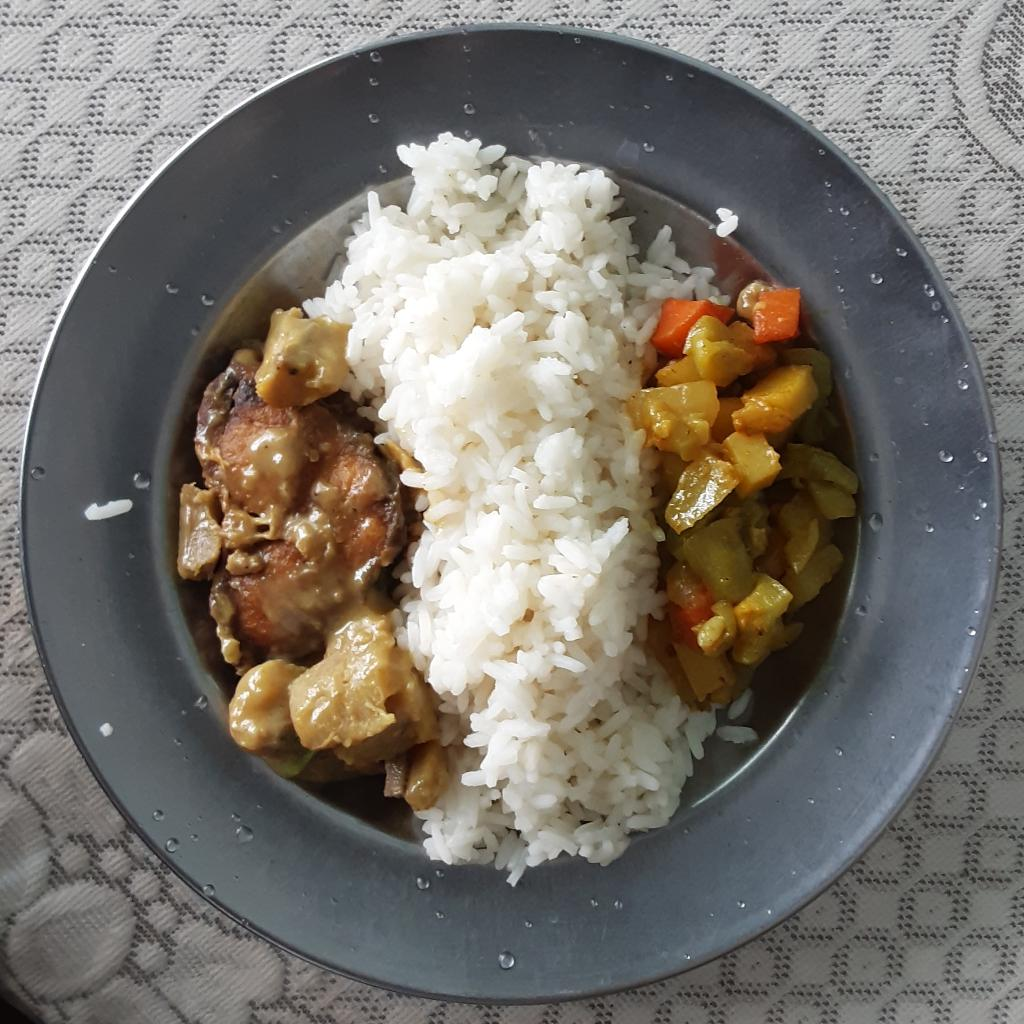fish: (195, 362, 429, 671)
khichuri: (627, 277, 859, 711)
kochu: (220, 613, 452, 804), (253, 307, 371, 404)
rice: (307, 131, 767, 880)
